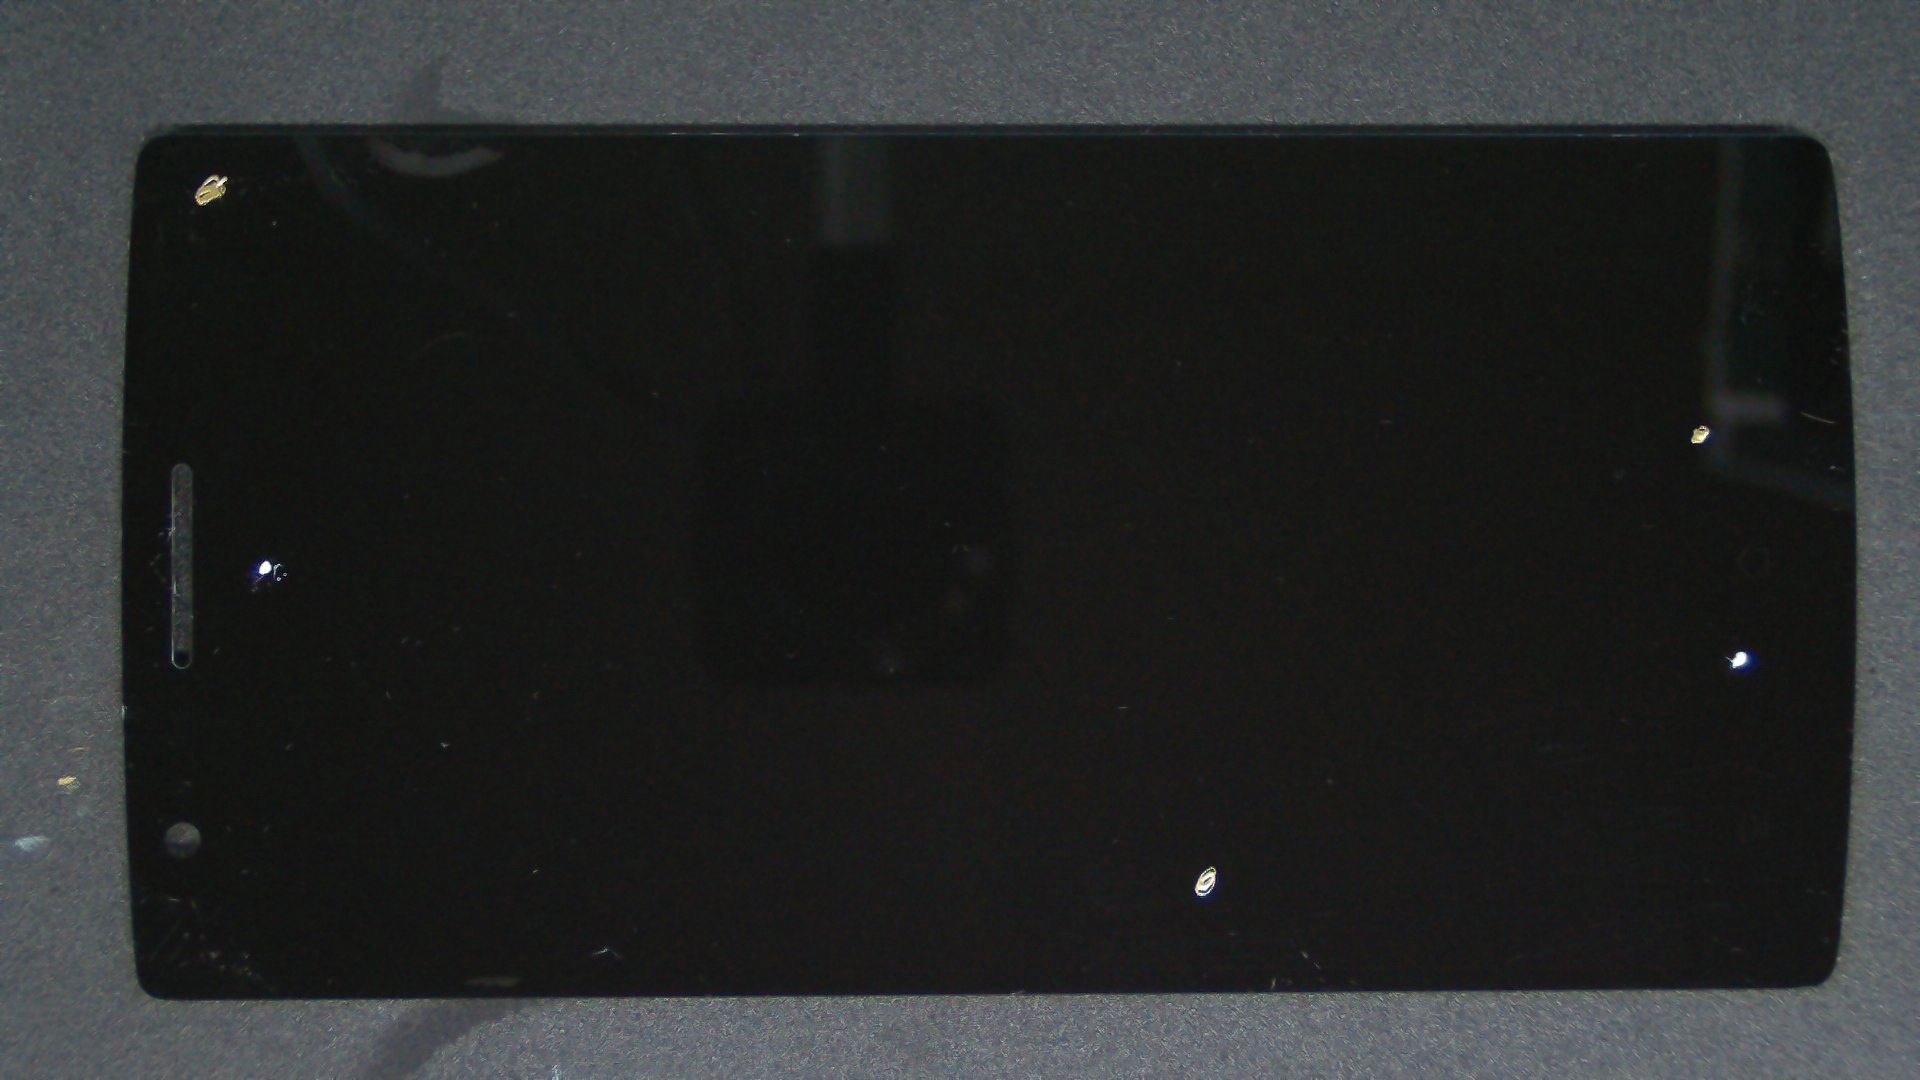oil: (607, 431, 1817, 1080), (870, 324, 1920, 976), (851, 211, 1920, 637), (135, 280, 400, 839), (107, 86, 318, 260)
